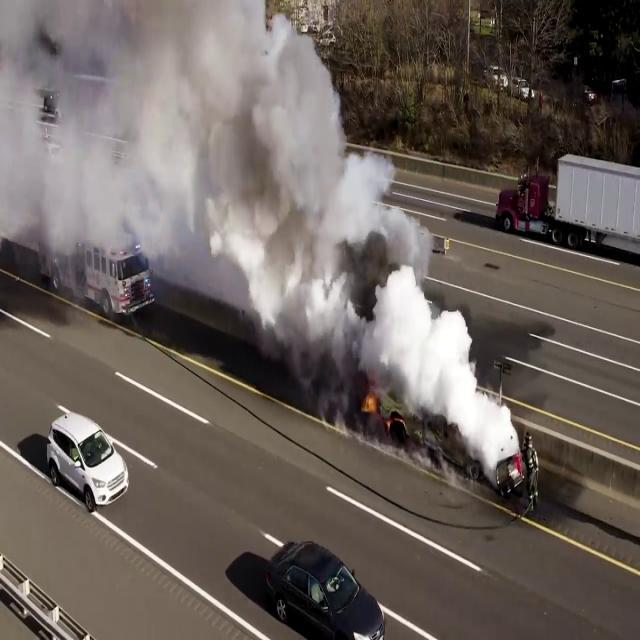Smoke: (0, 0, 431, 393), (357, 250, 517, 483)
